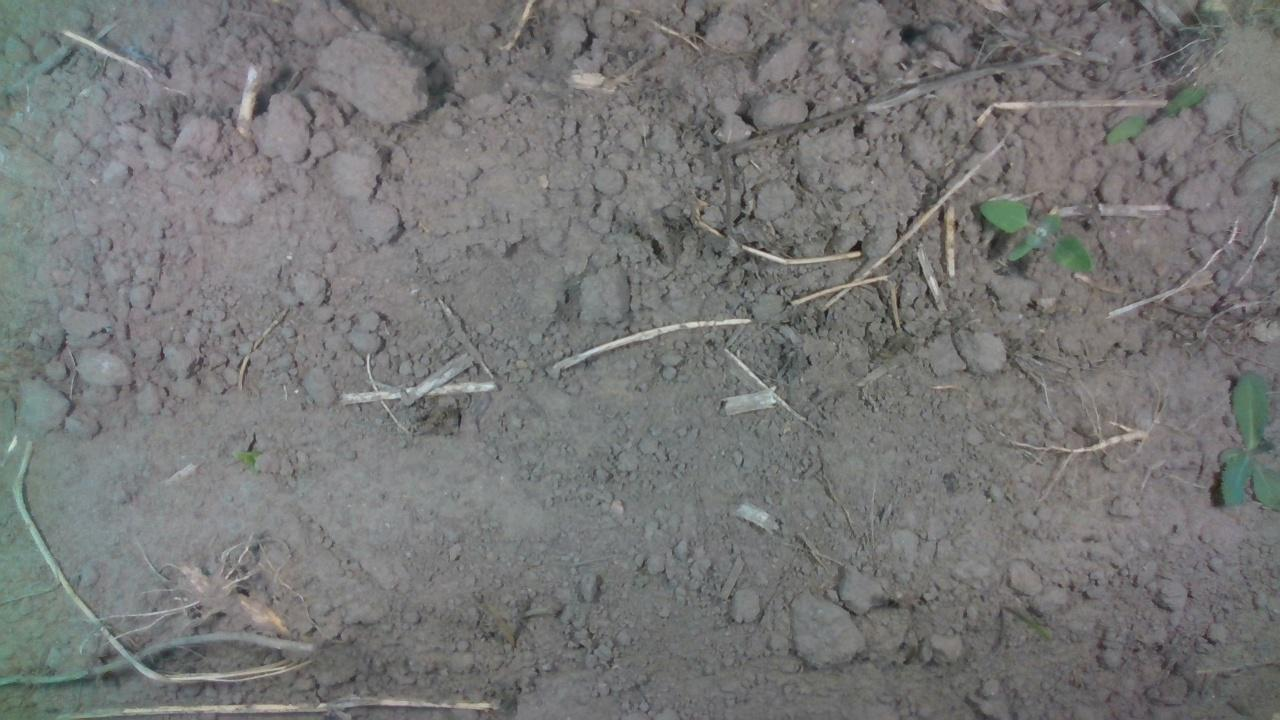weed: (975, 195, 1093, 275), (1102, 79, 1206, 146)
